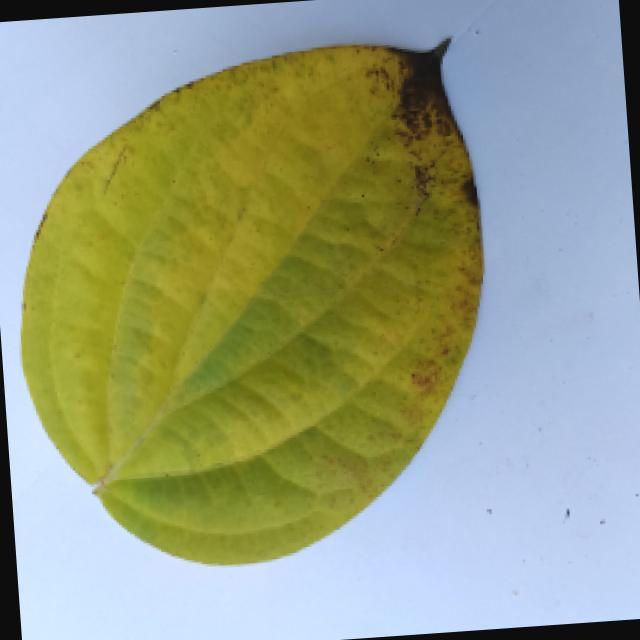slow-decline: (0, 7, 567, 566)
